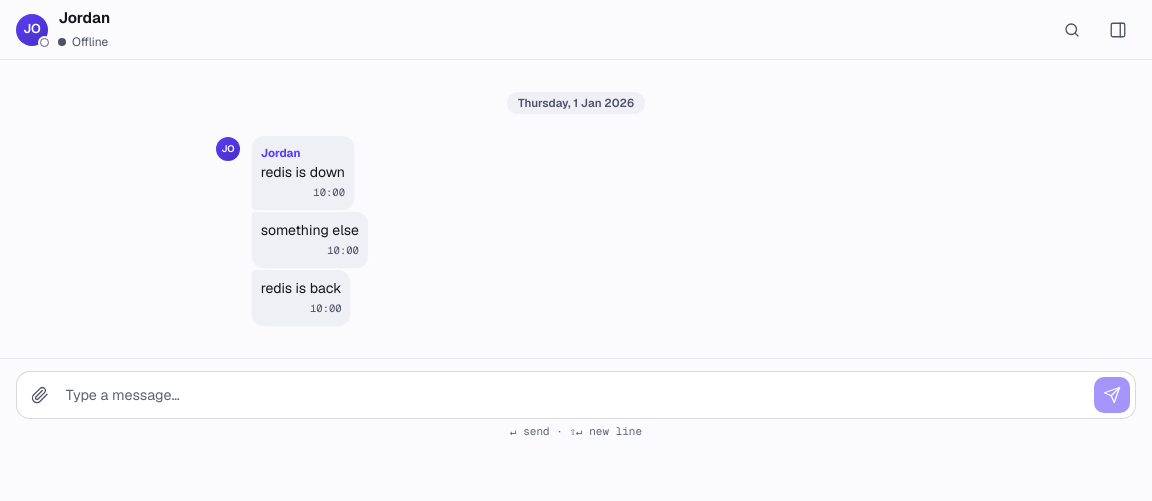
Scenario: ConversationRoom — searching this conversation › says so when nothing matches
Step 1. Click the button named "Search this conversation" → coordinates (1072, 30), box left=1054, top=12, right=1090, bottom=48
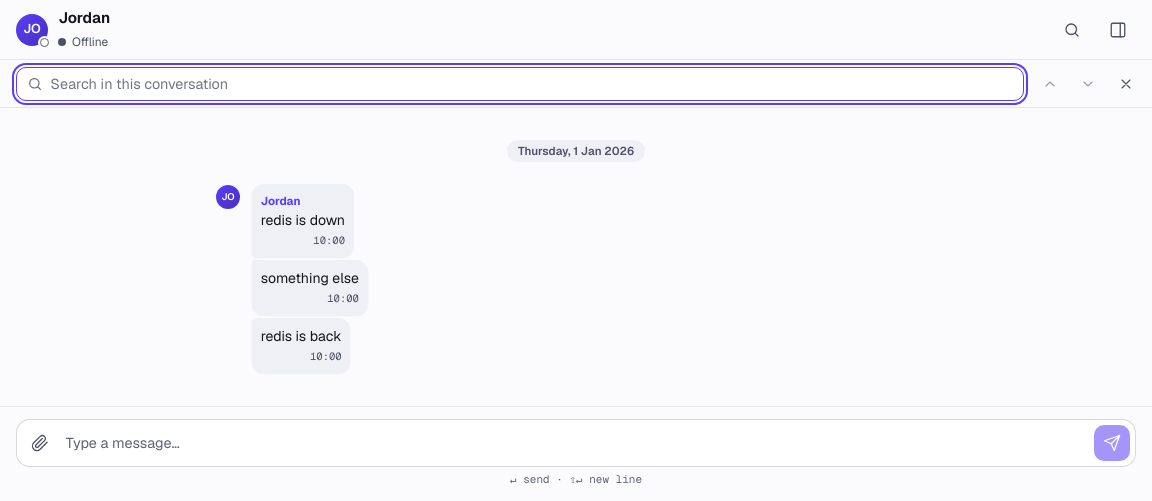
Step 2. Type "zebra" into the search field labelled "Search in this conversation" → coordinates (520, 84), box left=16, top=66, right=1024, bottom=100
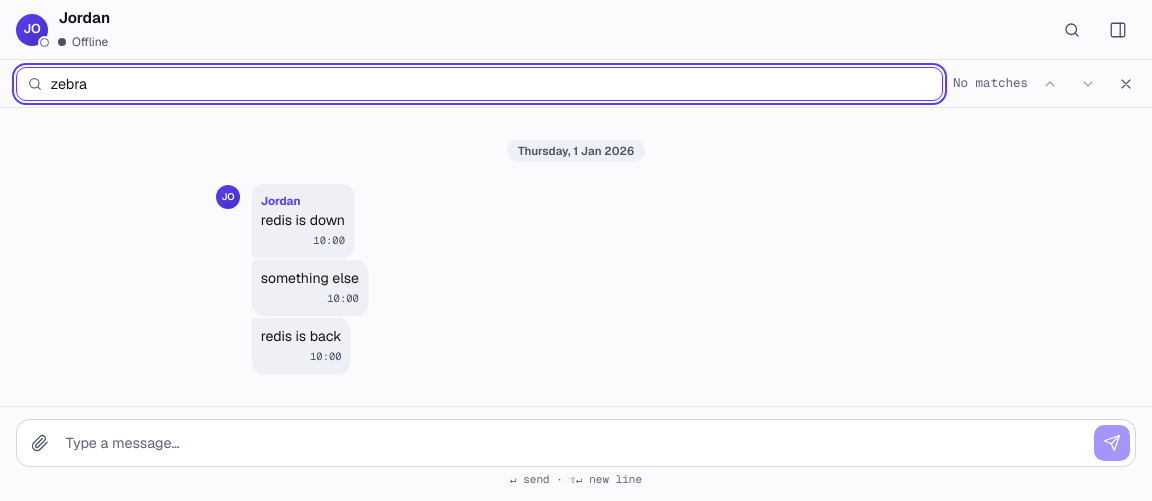
Expected: the button named "Older match" is disabled, left=1034, top=68, right=1066, bottom=100
Expected: the text "No matches" is shown, left=953, top=74, right=1028, bottom=93
